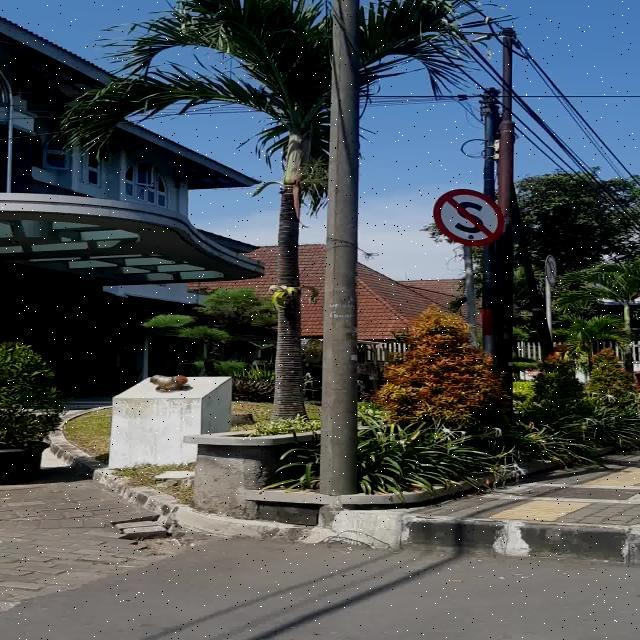Dilarang Berhenti: (434, 188, 504, 246)
